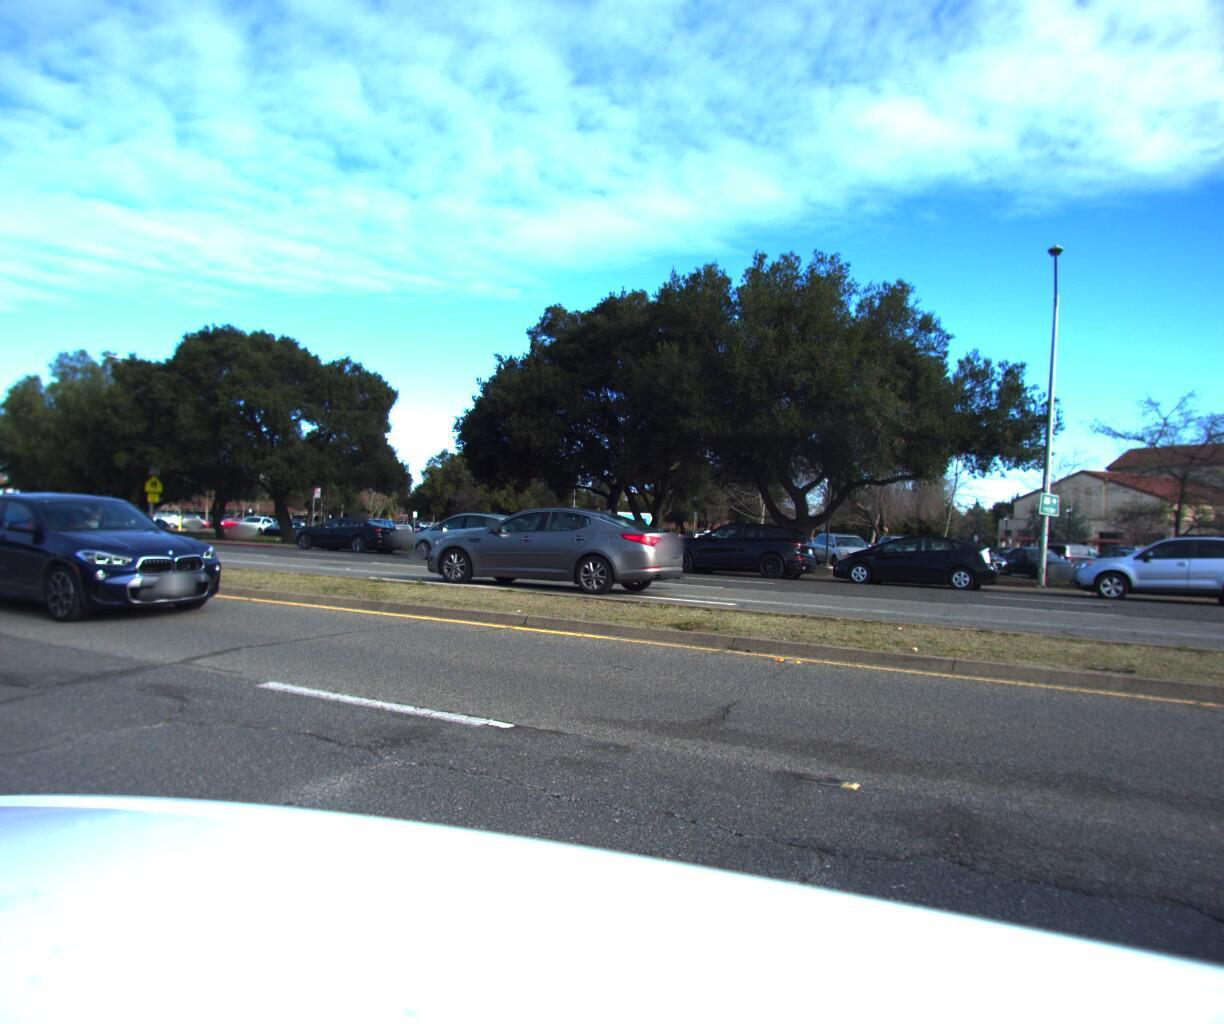car: (411, 494, 700, 597), (1062, 525, 1224, 606), (650, 516, 825, 577), (827, 527, 1004, 586), (395, 507, 537, 563), (283, 510, 407, 551)
